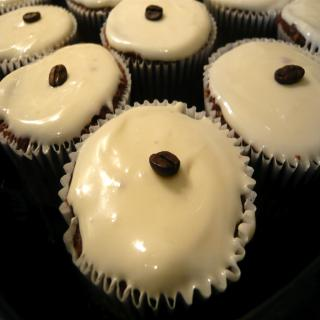Cake: (63, 101, 257, 301), (201, 36, 320, 166), (0, 38, 127, 148), (104, 0, 212, 72), (0, 4, 75, 70)
Muffin: (0, 0, 319, 319)
